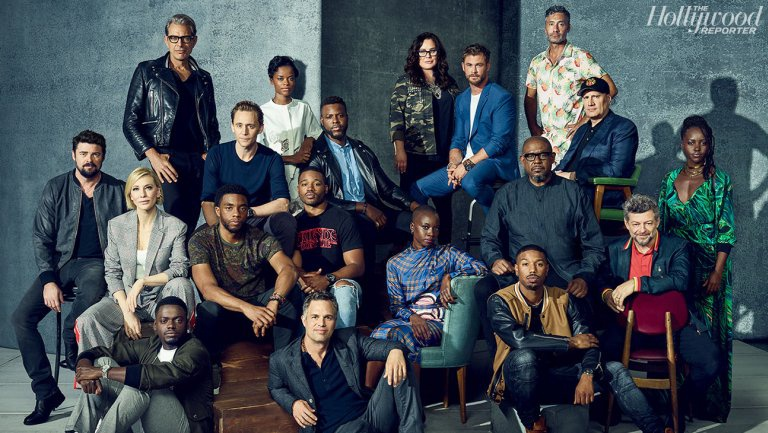bad: (153, 310, 189, 346), (513, 254, 549, 290), (301, 306, 337, 342), (217, 194, 253, 230), (293, 174, 329, 210), (625, 214, 661, 250), (125, 178, 161, 214), (69, 142, 105, 178), (521, 142, 557, 178), (161, 30, 197, 66), (225, 114, 261, 150)
